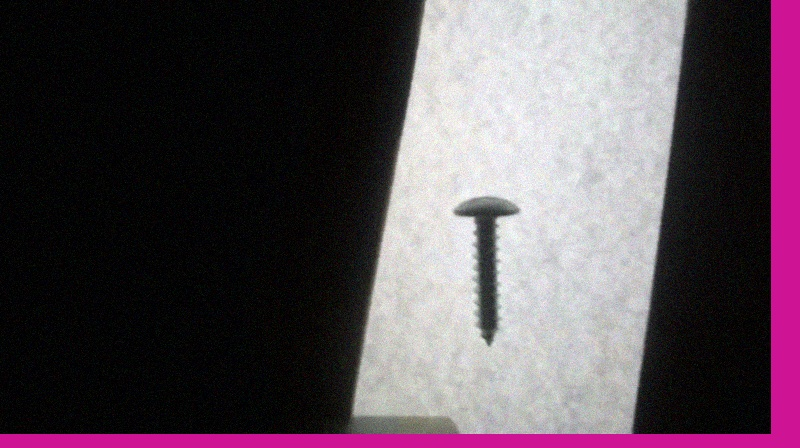S003: (446, 192, 522, 348)
